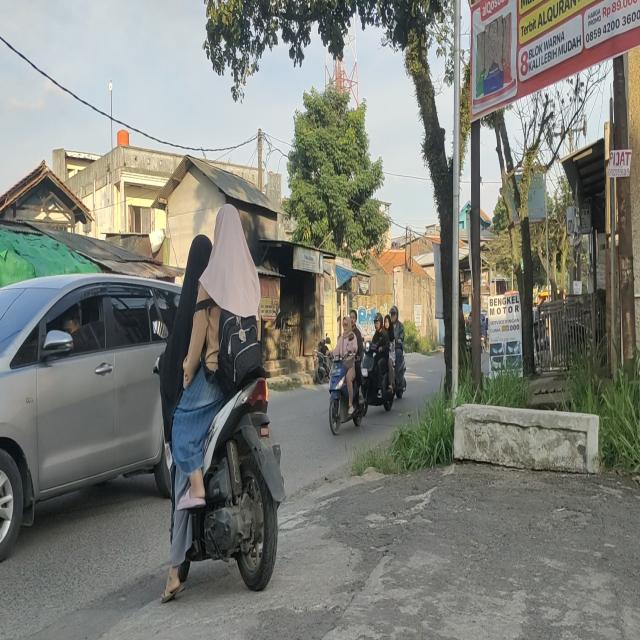helmet: (372, 312, 382, 332), (392, 306, 399, 322)
no-helmet: (184, 229, 214, 290), (215, 204, 244, 257), (342, 314, 352, 335), (350, 309, 358, 331), (383, 315, 391, 330)
